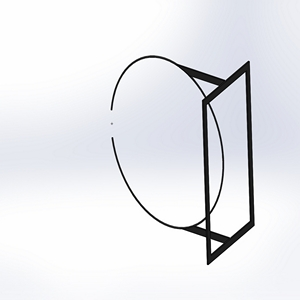circle: (108, 53, 257, 266)
